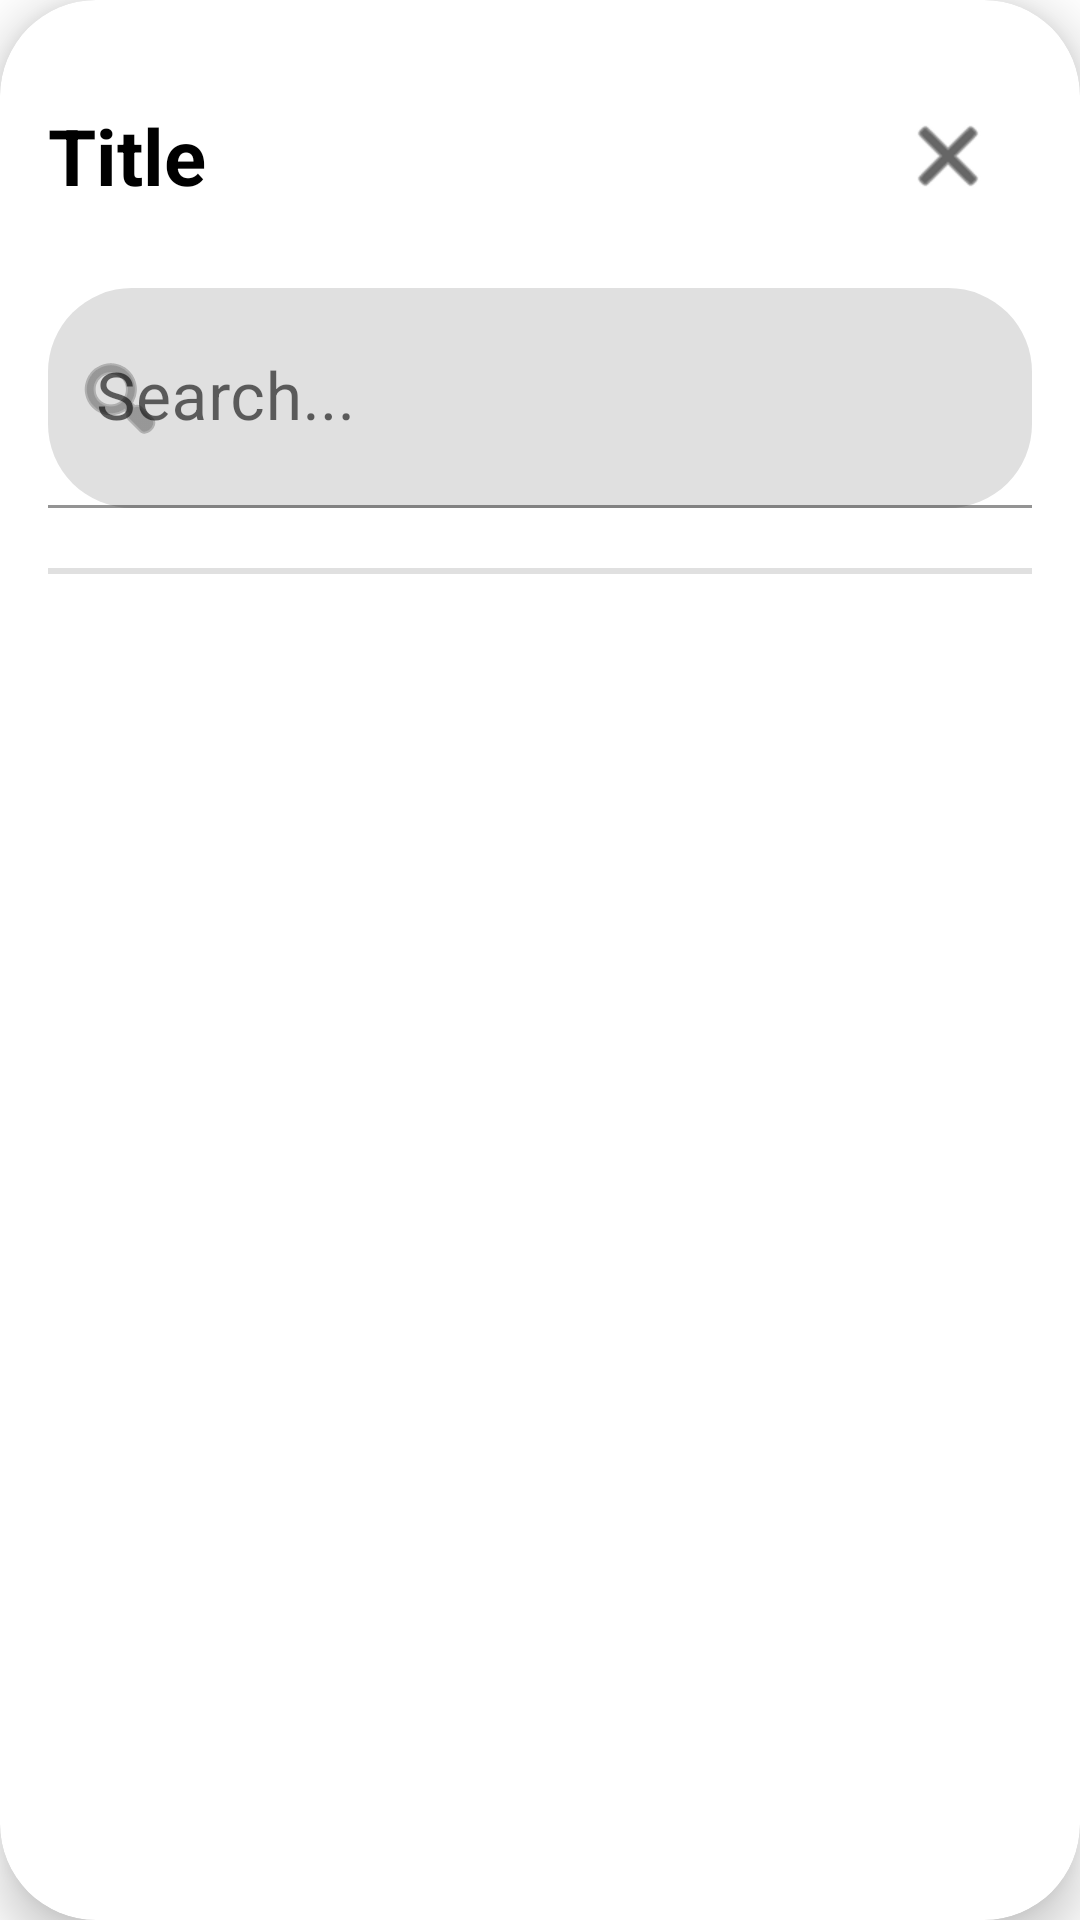

Screen size 1080*1920. Icon name, then its center in pixels as (x=x, y=y):
Close: (x=948, y=156)
